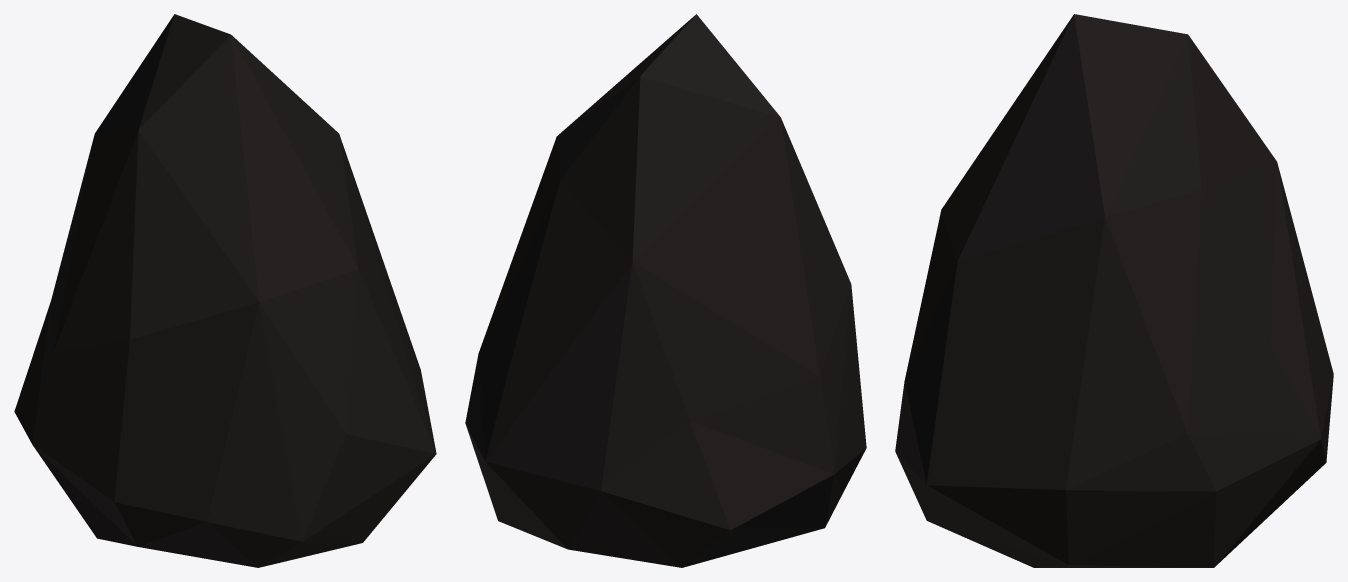
Rendered from SM_Gen_Env_Bush_Part_05.glb.
3 views of the same model, side by side, from view 1: azimuth 30°, elevation 25°; view 2: azimuth 150°, elevation 25°; view 3: azimuth 270°, elevation 25° (orthographic).
Visible parts, largest first — view 1: SM_Gen_Env_Bush_Part_05; view 2: SM_Gen_Env_Bush_Part_05; view 3: SM_Gen_Env_Bush_Part_05.
Boxes of the visible parts, x1,y1,x2,y2 form: SM_Gen_Env_Bush_Part_05: (14, 14, 436, 567); SM_Gen_Env_Bush_Part_05: (465, 14, 866, 567); SM_Gen_Env_Bush_Part_05: (895, 14, 1333, 567).
Bounding box in the file's own units: 0.9668 × 1.32 × 1.02.
1 material, 1 textured.
